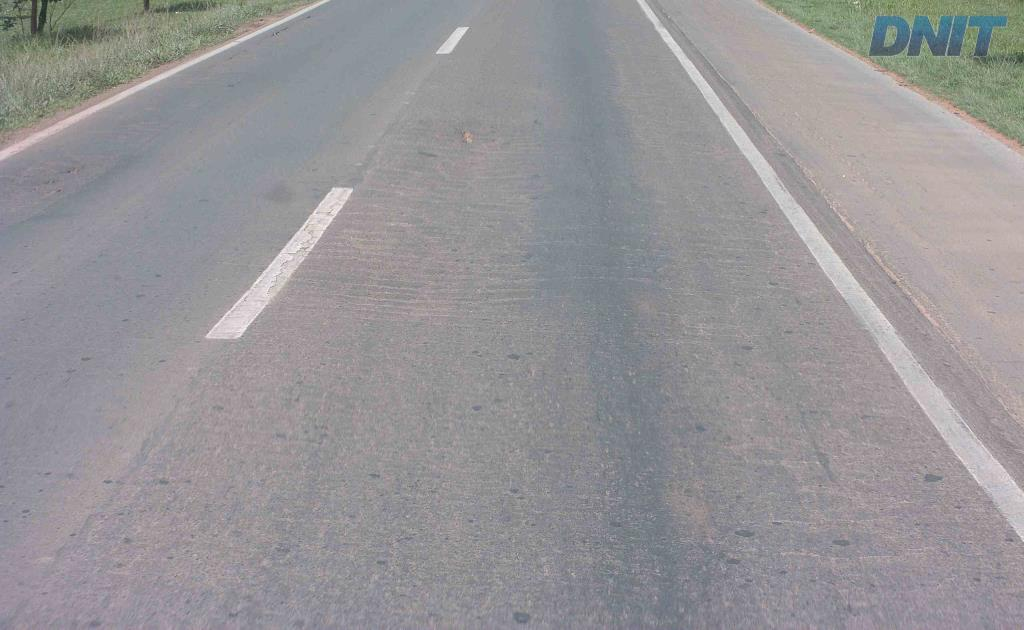pothole: (456, 126, 480, 143)
